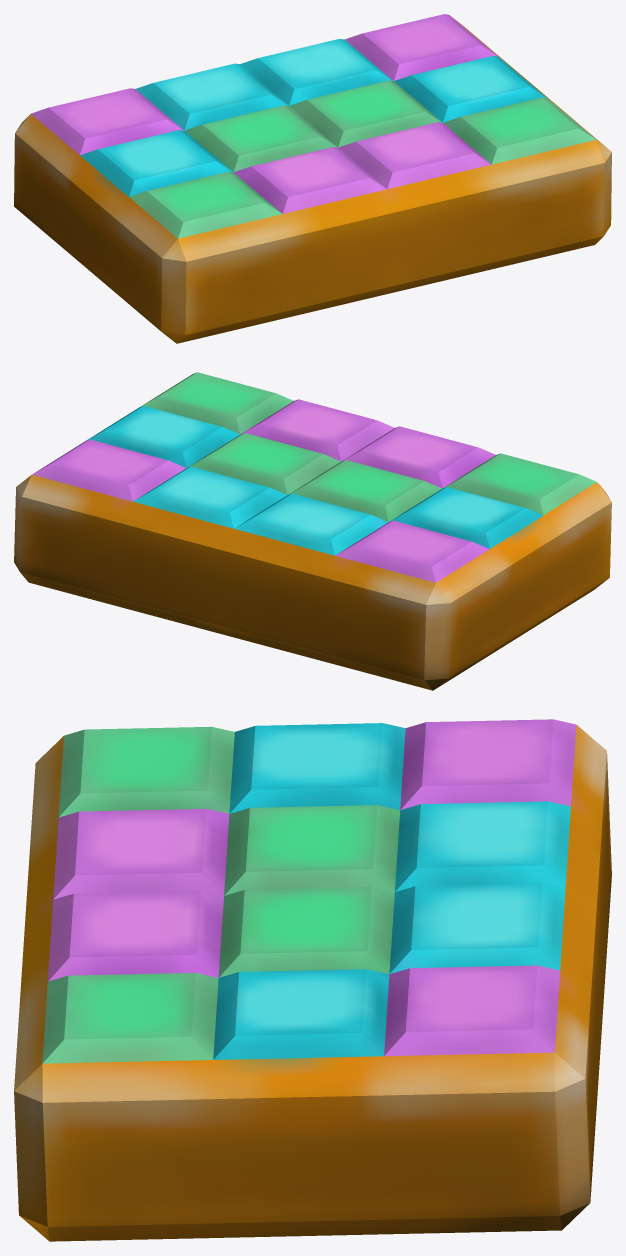
The model's file is ButtonPannel.FBX.
3 views of the same model, one above another, from view 1: azimuth 30°, elevation 25°; view 2: azimuth 150°, elevation 25°; view 3: azimuth 270°, elevation 25° (orthographic). The views are drawn at different scales.
Parts seen in each view (by area): view 1: Teclado02; view 2: Teclado02; view 3: Teclado02.
Boxes of the visible parts, x1,y1,x2,y2 form: Teclado02: (14,14,611,343); Teclado02: (14,372,611,690); Teclado02: (14,719,611,1241).
Size of the model in its own units: 29.18 by 20.22 by 7.95.
